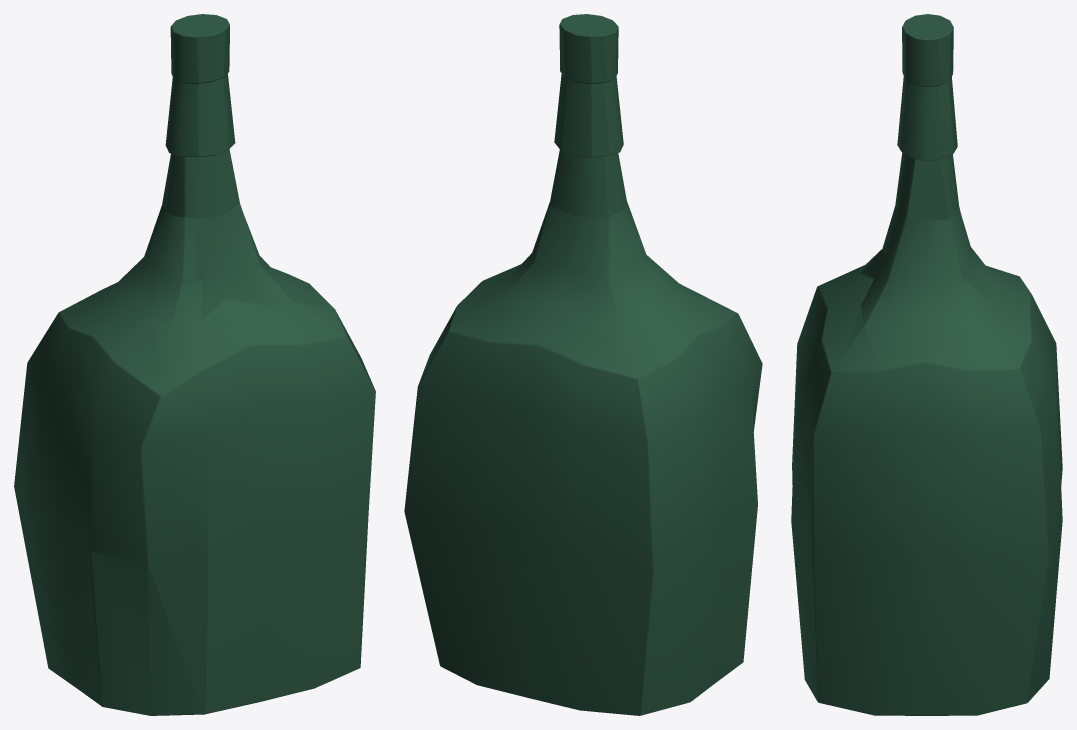
Rendered from UD_TIR_Bottle_03_Medium.fbx.
The picture shows the model from 3 angles, left to right: view 1: azimuth 30°, elevation 25°; view 2: azimuth 150°, elevation 25°; view 3: azimuth 270°, elevation 25°; orthographic projection.
Parts seen in each view (by area): view 1: Bottle_03_Medium; view 2: Bottle_03_Medium; view 3: Bottle_03_Medium.
Boxes of the visible parts, x1,y1,x2,y2 form: Bottle_03_Medium: (14, 14, 375, 715); Bottle_03_Medium: (404, 14, 762, 715); Bottle_03_Medium: (791, 14, 1062, 715).
Size of the model in its own units: 11.64 by 24.97 by 9.76.
